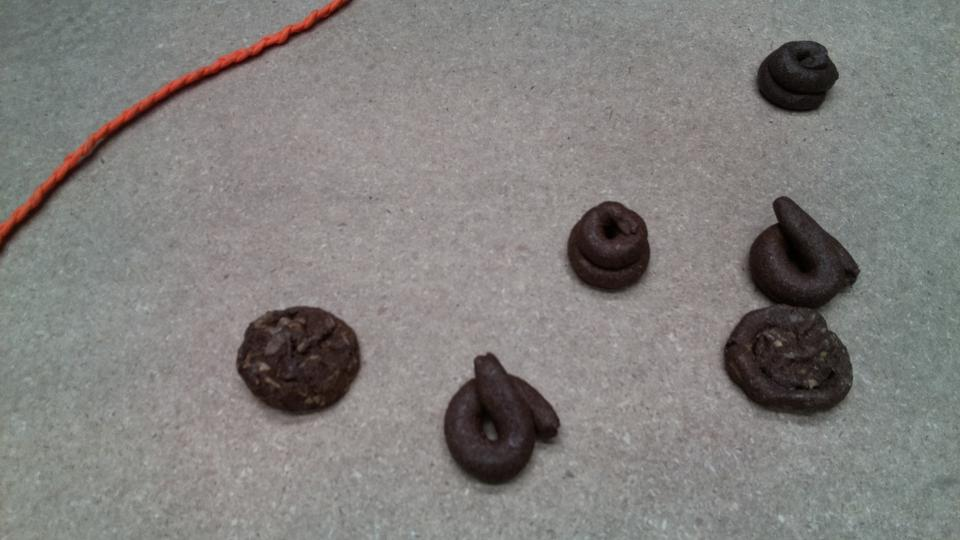poop: (440, 351, 565, 488), (719, 304, 858, 417), (234, 303, 366, 419), (745, 194, 865, 308), (564, 198, 654, 296), (753, 38, 843, 117)
rope: (2, 1, 331, 234)
